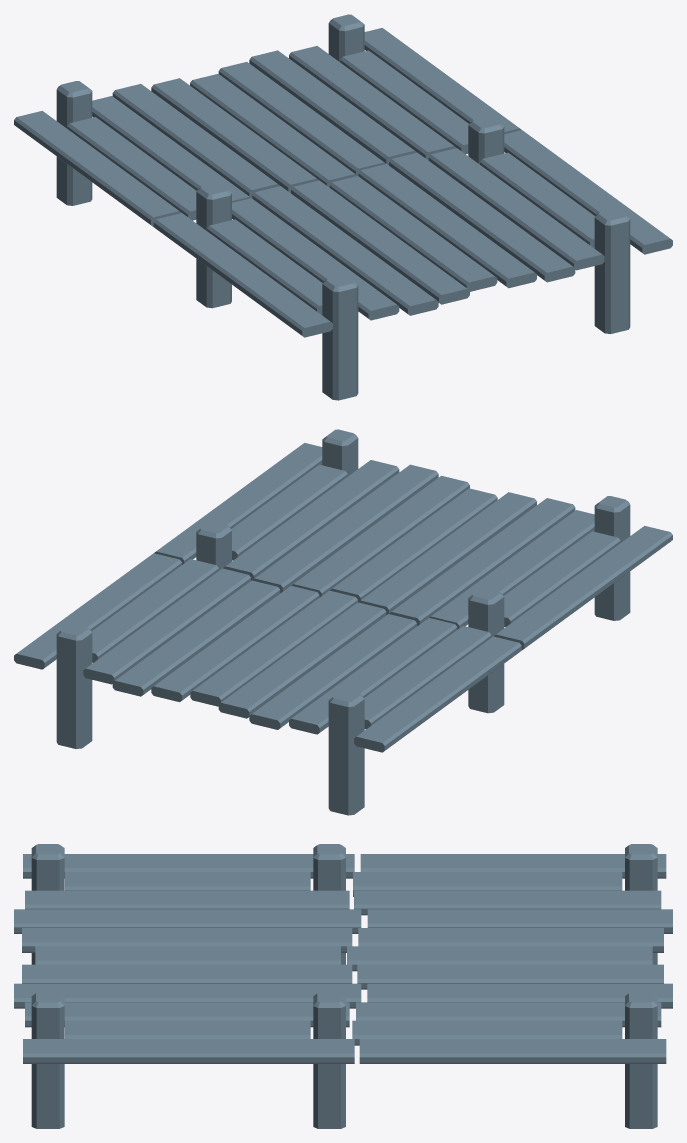
File: Port.fbx
3 views of the same model, one above another, from view 1: azimuth 30°, elevation 25°; view 2: azimuth 150°, elevation 25°; view 3: azimuth 270°, elevation 25° (orthographic). The views are drawn at different scales.
Parts seen in each view (by area): view 1: Harbor_full, Harbor_side; view 2: Harbor_full, Harbor_side; view 3: Harbor_full, Harbor_side.
Part boxes in pixels (box(x1,y1,x2,y2)): Harbor_full: box(153, 116, 672, 400); Harbor_side: box(14, 14, 521, 226); Harbor_full: box(154, 429, 672, 713); Harbor_side: box(14, 553, 521, 815); Harbor_full: box(14, 844, 361, 1128); Harbor_side: box(347, 844, 672, 1128).
Size of the model in its own units: 6.84 by 1.97 by 9.43.
